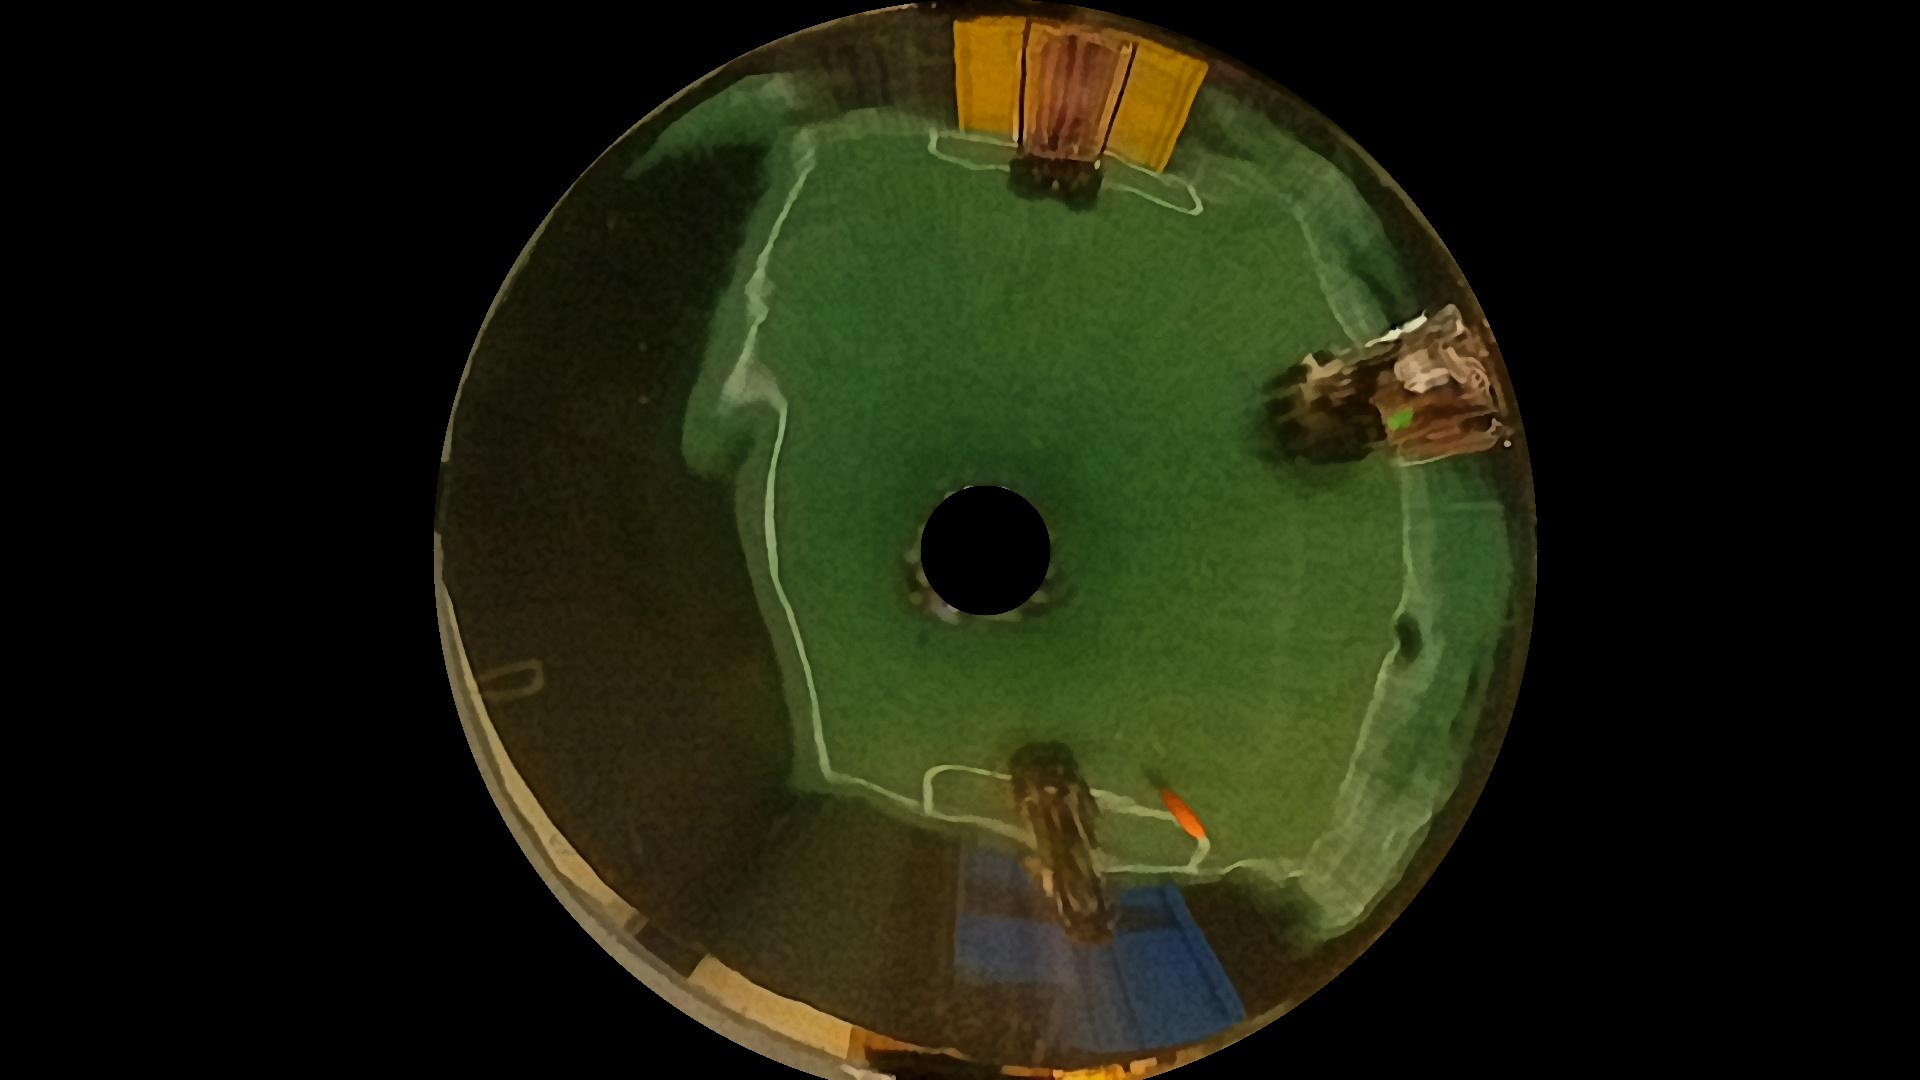ball: (1160, 784, 1222, 852)
blue-goal: (944, 842, 1234, 1034)
robots: (1256, 312, 1508, 462), (1000, 744, 1136, 946), (1006, 8, 1134, 214)
yellow-goal: (956, 18, 1194, 168)
